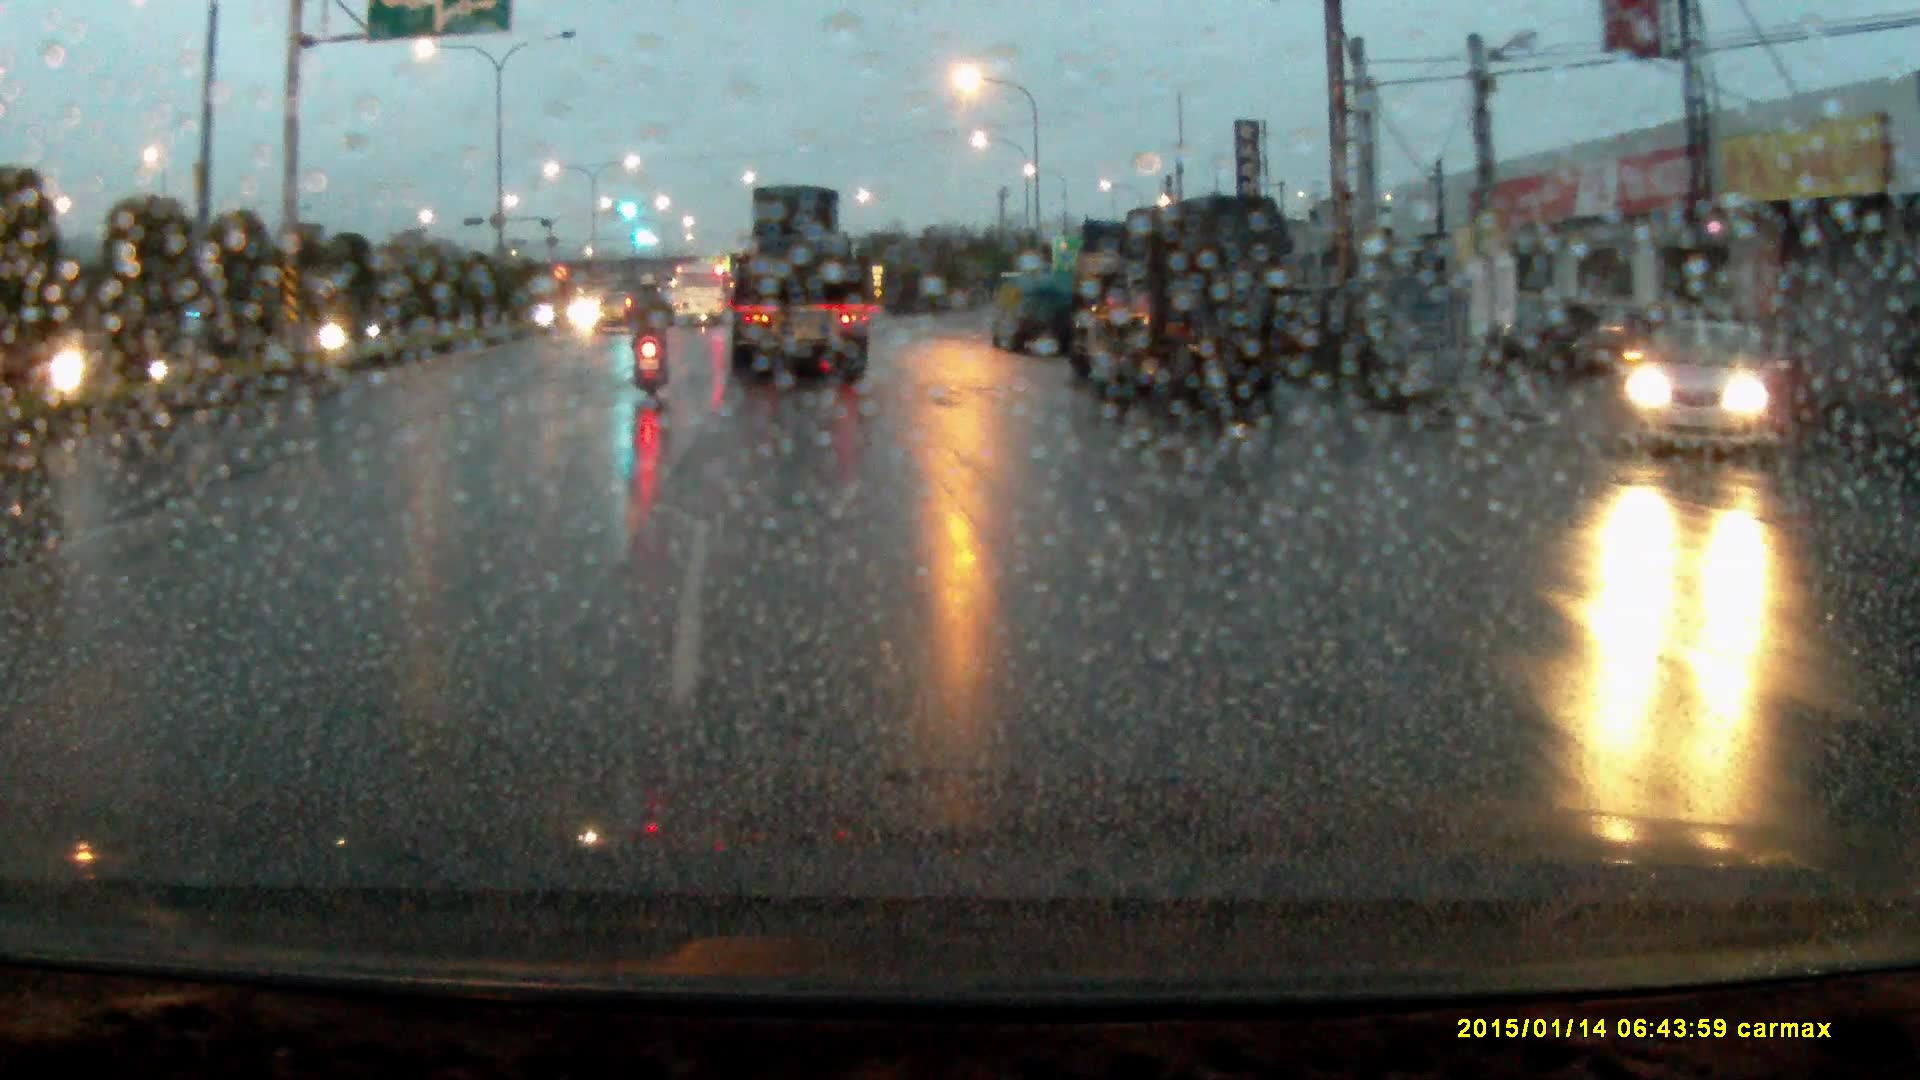rider: (629, 270, 684, 406)
vehicle: (1070, 193, 1311, 418), (1620, 317, 1807, 459), (735, 183, 871, 377), (993, 269, 1084, 351), (676, 263, 727, 326), (594, 286, 646, 334)
